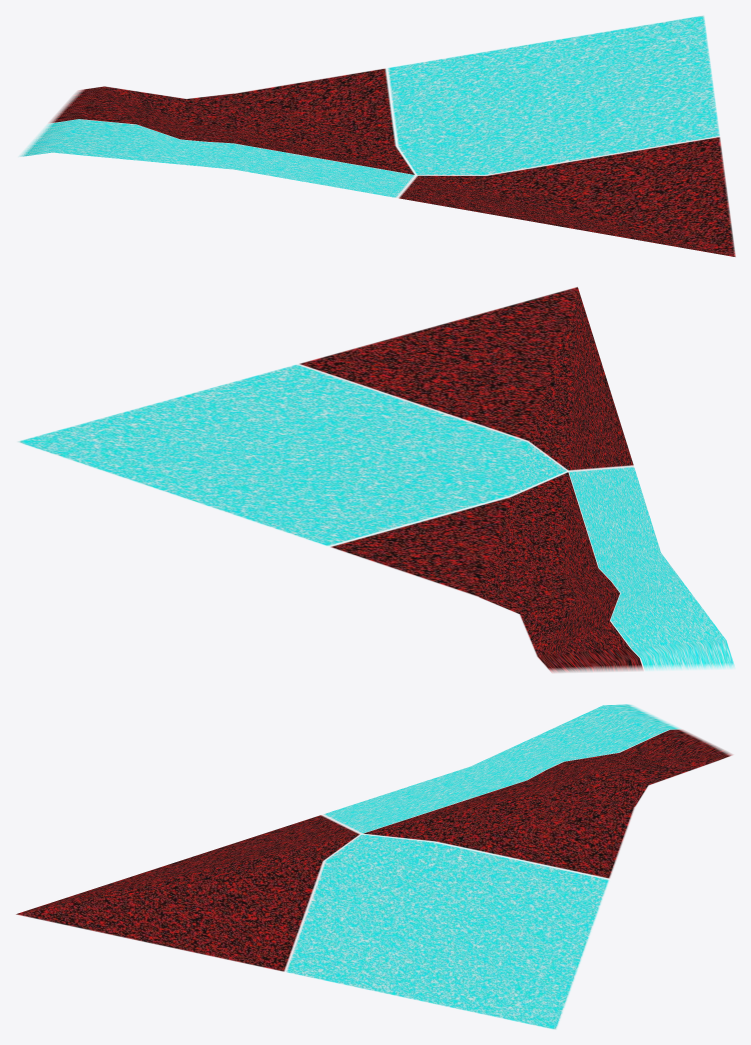
3 renders of one model, top to bottom at view 1: azimuth 30°, elevation 25°; view 2: azimuth 150°, elevation 25°; view 3: azimuth 270°, elevation 25°, orthographic. The views are drawn at different scales.
Visible parts, largest first — view 1: SM_VFX_GF_River10_LOD0; view 2: SM_VFX_GF_River10_LOD0; view 3: SM_VFX_GF_River10_LOD0.
Part boxes in pixels (left/top/right/bottom): SM_VFX_GF_River10_LOD0: left=19, top=15, right=735, bottom=256; SM_VFX_GF_River10_LOD0: left=17, top=287, right=734, bottom=672; SM_VFX_GF_River10_LOD0: left=16, top=704, right=732, bottom=1029.
Size of the model in its own units: 72.21 by 1.1 by 65.3.
1 material, 1 textured.
